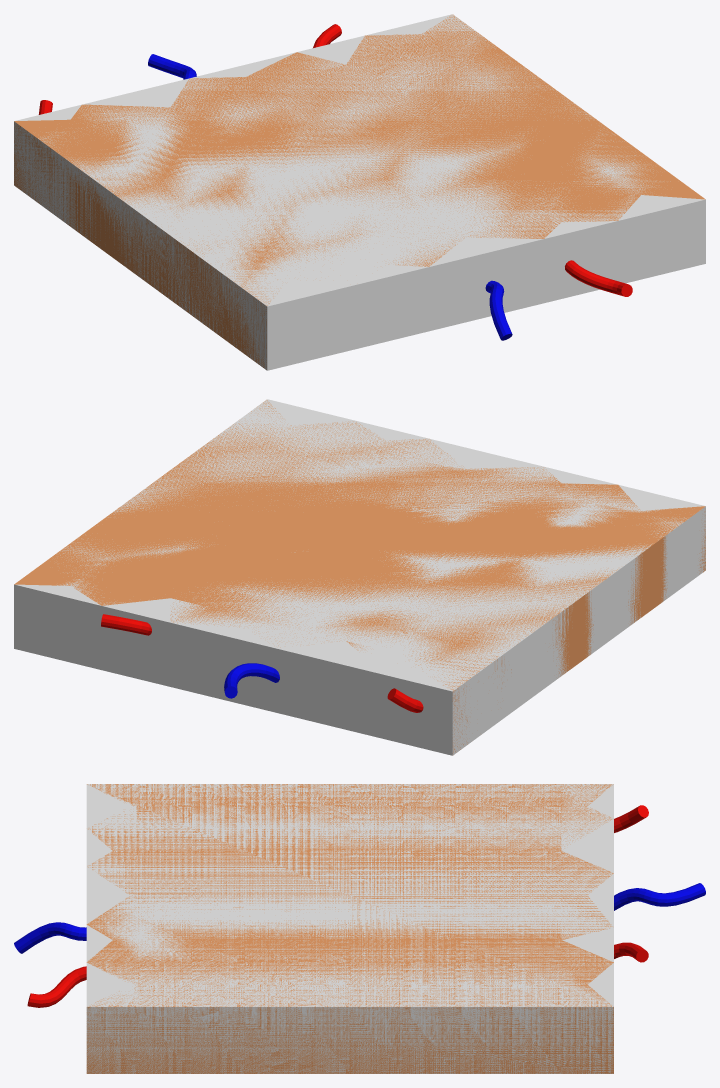
The model's file is Plataform.glb.
3 renders of one model, top to bottom at view 1: azimuth 30°, elevation 25°; view 2: azimuth 150°, elevation 25°; view 3: azimuth 270°, elevation 25°, orthographic. The views are drawn at different scales.
Visible parts, largest first — view 1: Plataform-colonly.001, Plataform, CaboAzul.001, CaboAzul, CaboAzul.002; view 2: Plataform-colonly.001, Plataform, CaboAzul.002, CaboAzul.003; view 3: Plataform-colonly.001, Plataform, CaboAzul.002, CaboAzul, CaboAzul.001, CaboAzul.004, CaboAzul.003.
Boxes of the visible parts, bbox=[...] form: Plataform-colonly.001: bbox=[14, 14, 705, 370]; Plataform: bbox=[14, 14, 705, 369]; CaboAzul.001: bbox=[565, 260, 632, 296]; CaboAzul: bbox=[485, 280, 512, 340]; CaboAzul.002: bbox=[148, 54, 196, 79]; Plataform-colonly.001: bbox=[14, 399, 705, 755]; Plataform: bbox=[14, 400, 705, 753]; CaboAzul.002: bbox=[224, 663, 279, 698]; CaboAzul.003: bbox=[101, 614, 151, 635]; Plataform-colonly.001: bbox=[86, 784, 613, 1073]; Plataform: bbox=[86, 784, 613, 1073]; CaboAzul.002: bbox=[614, 883, 705, 910]; CaboAzul: bbox=[14, 922, 86, 953]; CaboAzul.001: bbox=[27, 966, 86, 1007]; CaboAzul.004: bbox=[614, 805, 648, 832]; CaboAzul.003: bbox=[614, 942, 648, 962].
Size of the model in its own units: 7 by 1.05 by 9.18.
